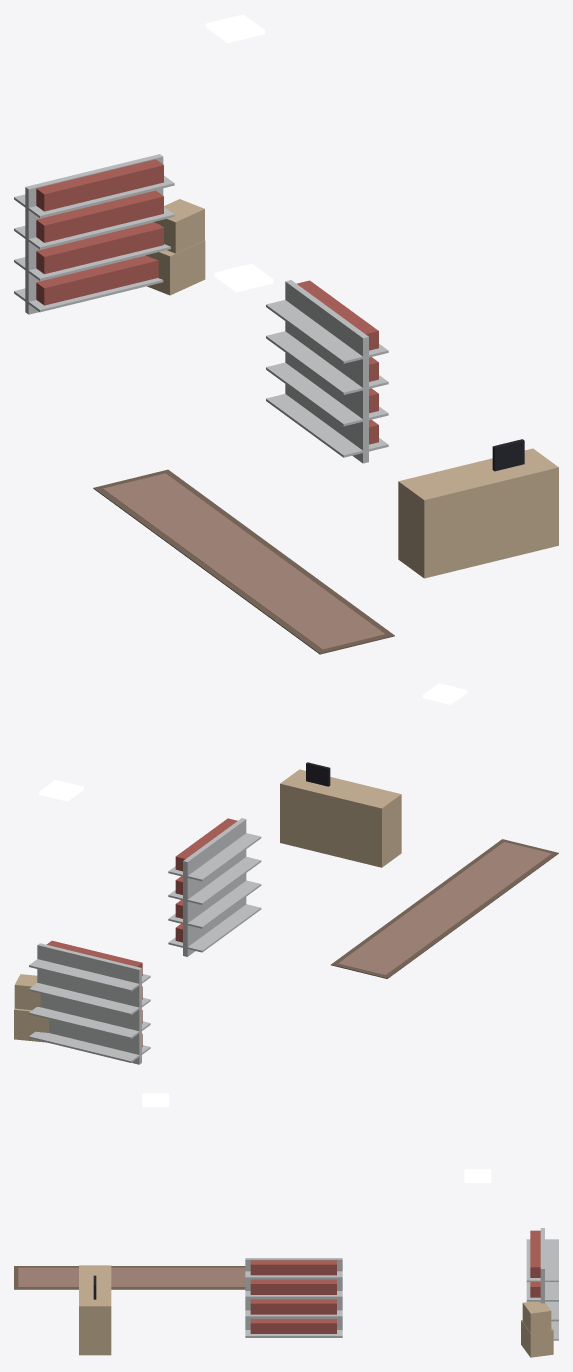
Rendered from fine-s0.glb.
3 views of the same model, one above another, from view 1: azimuth 30°, elevation 25°; view 2: azimuth 150°, elevation 25°; view 3: azimuth 270°, elevation 25° (orthographic). The views are drawn at different scales.
Parts seen in each view (by area): view 1: shelving.000, soft-s0, shop-counter.000, shelf.000, cardboard-box.000, ceiling-lamp.000, ceiling-lamp.001; view 2: shelving.000, soft-s0, shop-counter.000, shelf.000, cardboard-box.000, ceiling-lamp.000, ceiling-lamp.001; view 3: shelf.000, soft-s0, shop-counter.000, shelving.000, cardboard-box.000, ceiling-lamp.000, ceiling-lamp.001.
Boxes of the visible parts, x1,y1,x2,y2 form: shelving.000: (14,154,174,314); soft-s0: (93,469,394,654); shop-counter.000: (398,439,558,578); shelf.000: (266,280,388,463); cardboard-box.000: (146,199,205,295); ceiling-lamp.000: (214,263,273,292); ceiling-lamp.001: (206,14,264,42); shelving.000: (29,940,150,1064); soft-s0: (331,839,558,978); shop-counter.000: (280,762,401,867); shelf.000: (168,818,261,956); cardboard-box.000: (14,974,49,1042); ceiling-lamp.000: (422,683,467,704); ceiling-lamp.001: (39,780,83,801); shelf.000: (245,1258,342,1337); soft-s0: (14,1266,245,1289); shop-counter.000: (79,1265,111,1355); shelving.000: (526,1228,558,1340); cardboard-box.000: (521,1301,553,1357); ceiling-lamp.000: (142,1093,169,1106); ceiling-lamp.001: (464,1169,491,1182).
Size of the model in its own units: 4.08 by 3.66 by 10.09.
